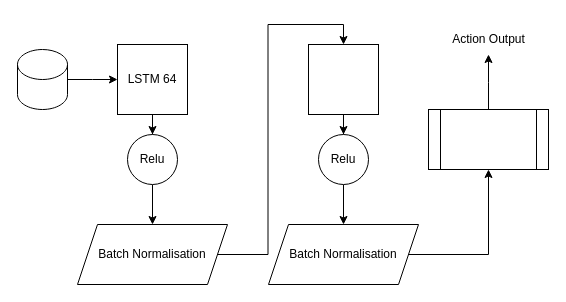
The diagram is 566 pixels wide and 302 high, and some of its shapes have lost their labels. The shapes that lost their labels are listed below. From the top down, each one's centre as x and y in pixels, then its label:
At pixel 343 79: "LSTM 32".
At pixel 488 139: "Softmax".
